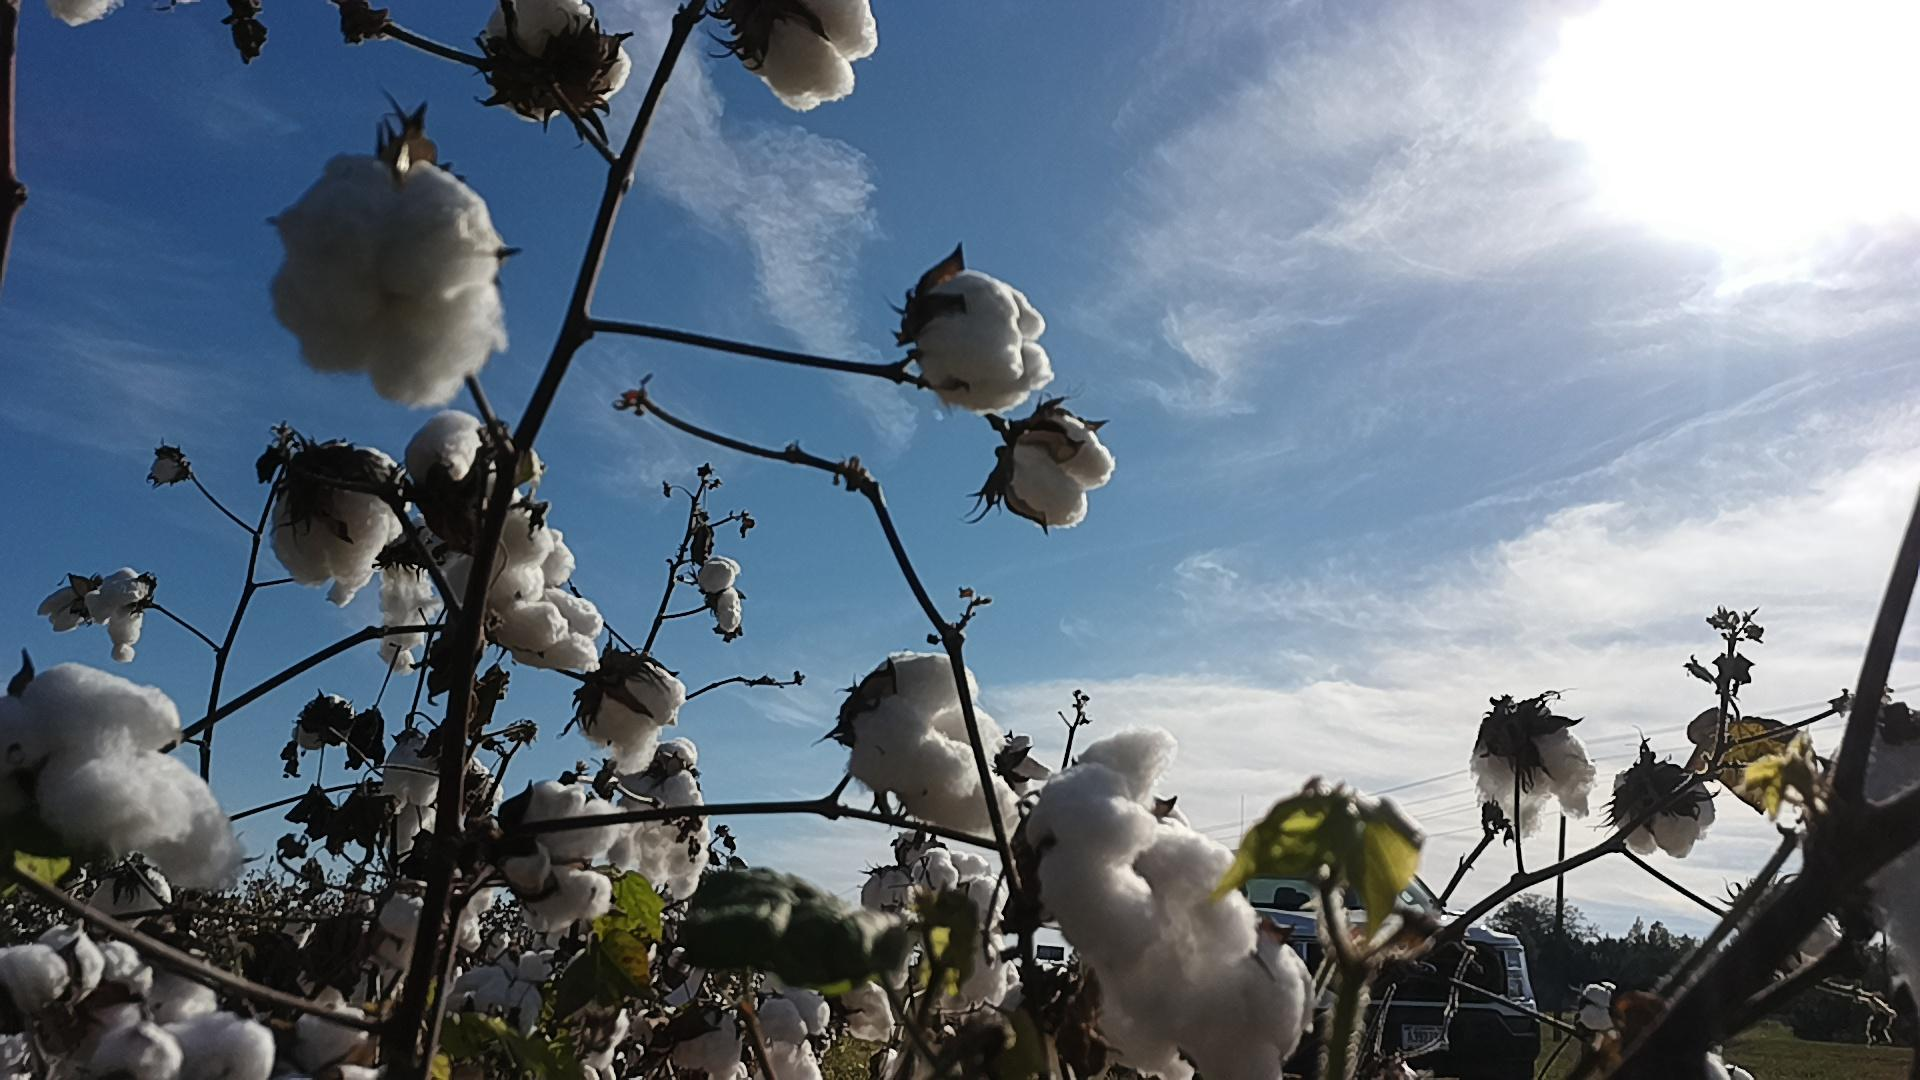cotton_ready: (270, 148, 510, 410), (0, 662, 248, 890), (1031, 730, 1252, 971), (1091, 931, 1319, 1080), (839, 647, 1017, 828), (82, 943, 278, 1080), (897, 269, 1051, 413), (266, 441, 396, 608), (492, 506, 603, 676), (482, 0, 630, 126), (718, 0, 878, 109), (1468, 700, 1595, 833), (512, 776, 623, 923), (912, 849, 1008, 1007), (623, 739, 712, 900), (405, 405, 549, 503), (997, 410, 1112, 529), (577, 662, 686, 776), (38, 563, 153, 665), (1611, 761, 1715, 855), (0, 927, 100, 1009), (381, 560, 443, 677), (382, 727, 440, 847), (697, 553, 744, 632)
